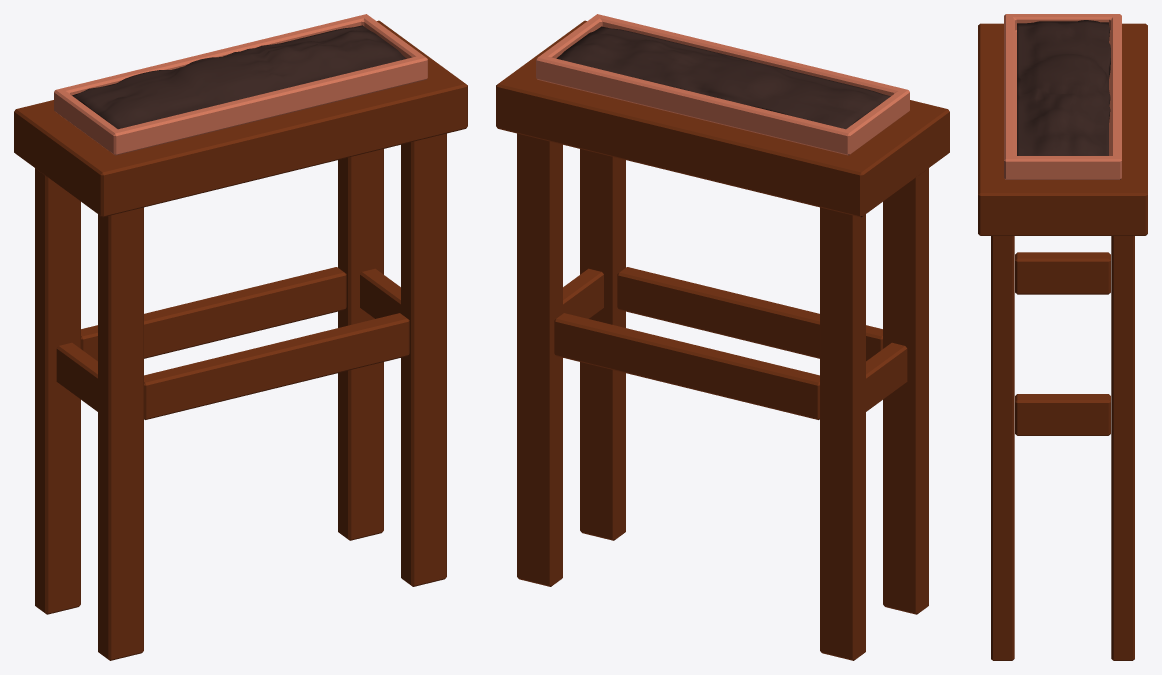
File: PlanterTable.fbx
The picture shows the model from 3 angles, left to right: view 1: azimuth 30°, elevation 25°; view 2: azimuth 150°, elevation 25°; view 3: azimuth 270°, elevation 25°; orthographic projection. The views are drawn at different scales.
Parts seen in each view (by area): view 1: PlanterTable; view 2: PlanterTable; view 3: PlanterTable.
Boxes of the visible parts, bbox=[...] form: PlanterTable: bbox=[14, 14, 467, 660]; PlanterTable: bbox=[496, 14, 949, 660]; PlanterTable: bbox=[978, 14, 1147, 660].
Bounding box in the file's own units: 200 × 276 × 83.86.
